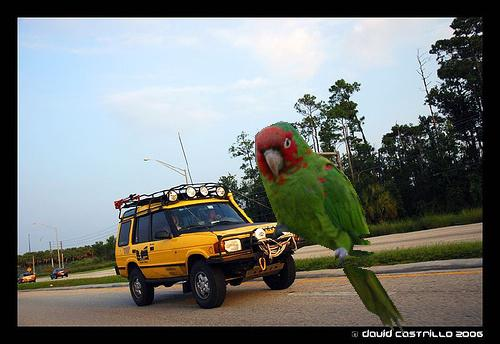tampered: (256, 122, 406, 335)
